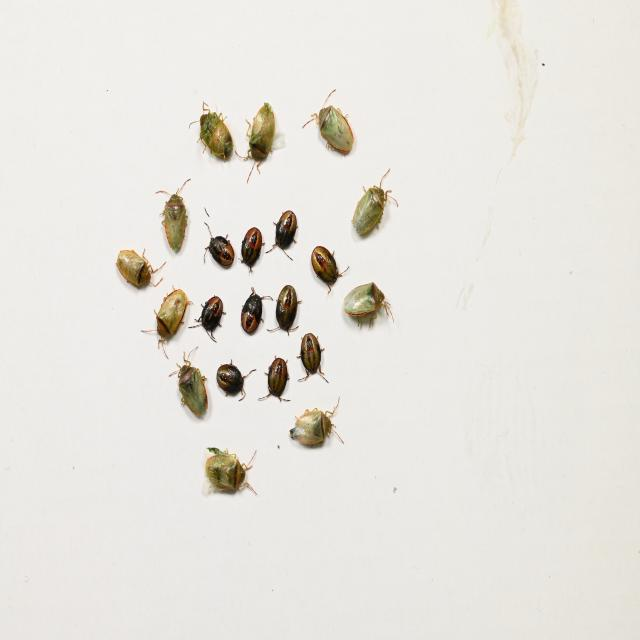stinkbug: (140, 282, 193, 359), (300, 88, 356, 156), (351, 167, 399, 241), (236, 102, 276, 185), (203, 443, 259, 500), (168, 346, 209, 422), (188, 98, 235, 163), (154, 179, 194, 254), (290, 396, 345, 448), (343, 281, 395, 328), (114, 247, 167, 287)
